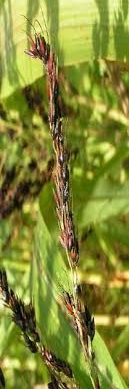Wheat Loose Smut: (39, 79, 84, 276)
